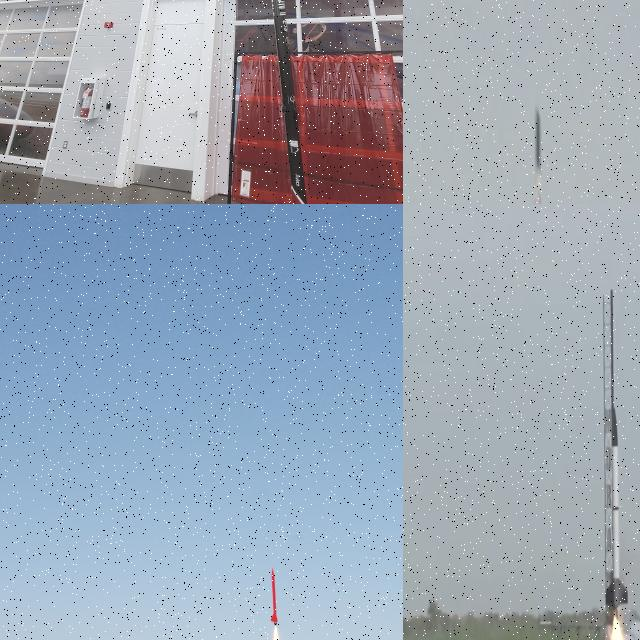Rocket: (272, 0, 308, 204), (604, 406, 630, 612), (528, 104, 549, 204), (270, 566, 278, 625)
